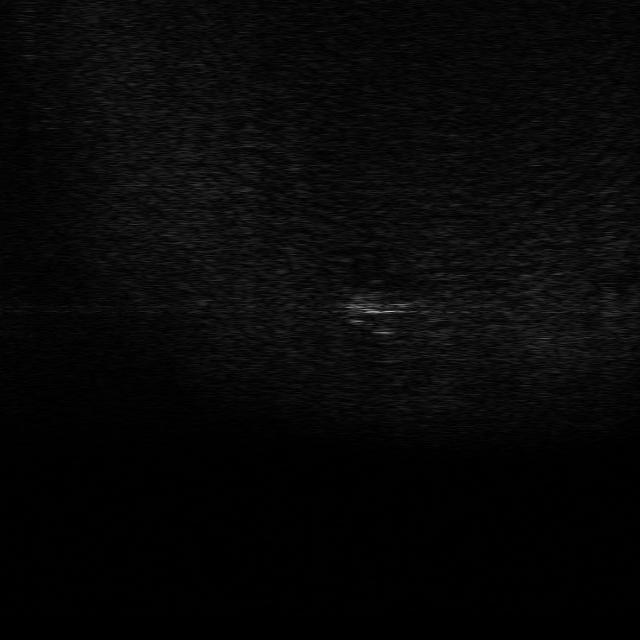plane: (339, 292, 425, 325)
